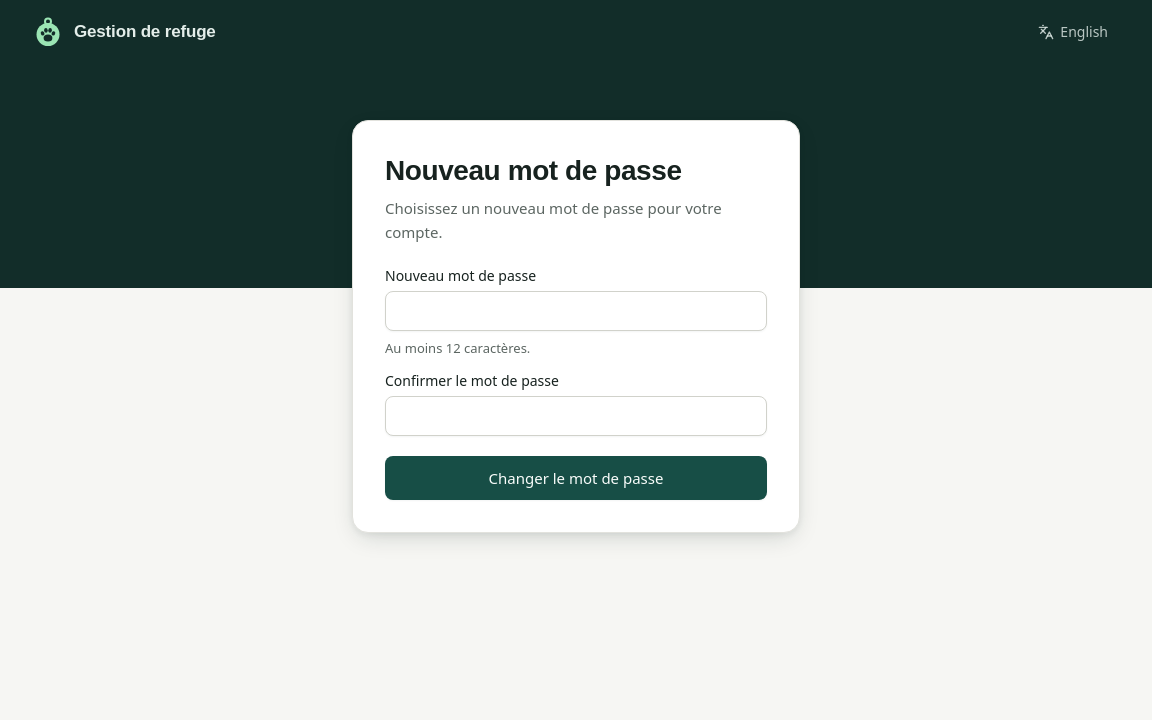
Test: forms › checks a new password before sending it, then shows the server refusal on the field
The width and height of the screenshot is (1152, 720).
In the password field labelled "Nouveau mot de passe": x=576, y=311 [385,291,767,331], type "short"
Click the button "Changer le mot de passe": x=576, y=478 [385,456,767,500]
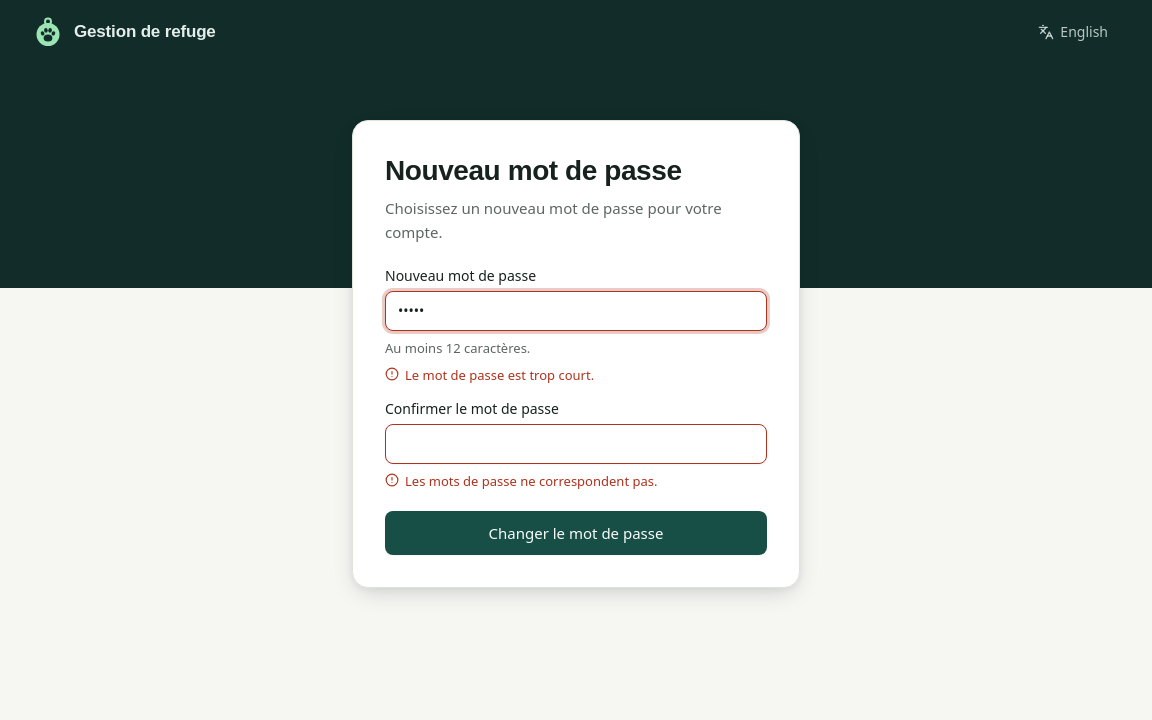
Expected: the text "Le mot de passe est trop court." is shown, [385,366,594,384]
In the password field labelled "Nouveau mot de passe": x=576, y=311 [385,291,767,331], type "long enough pass"
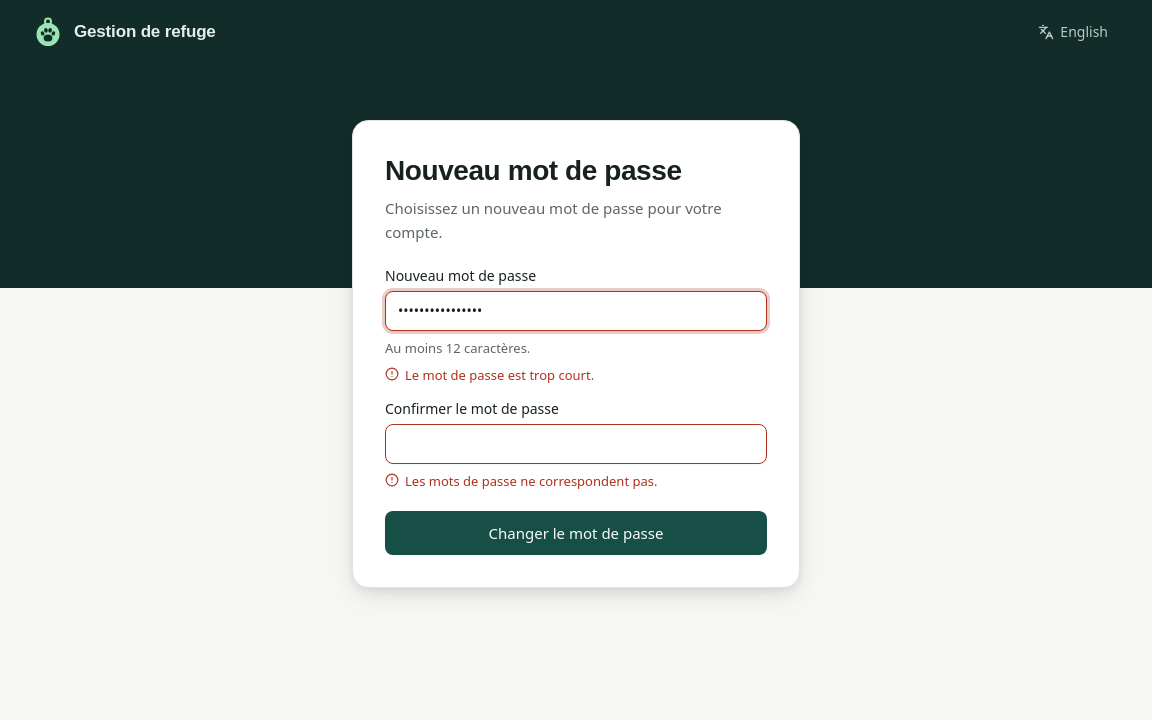
In the password field labelled "Confirmer le mot de passe": x=576, y=444 [385,424,767,464], type "something else"
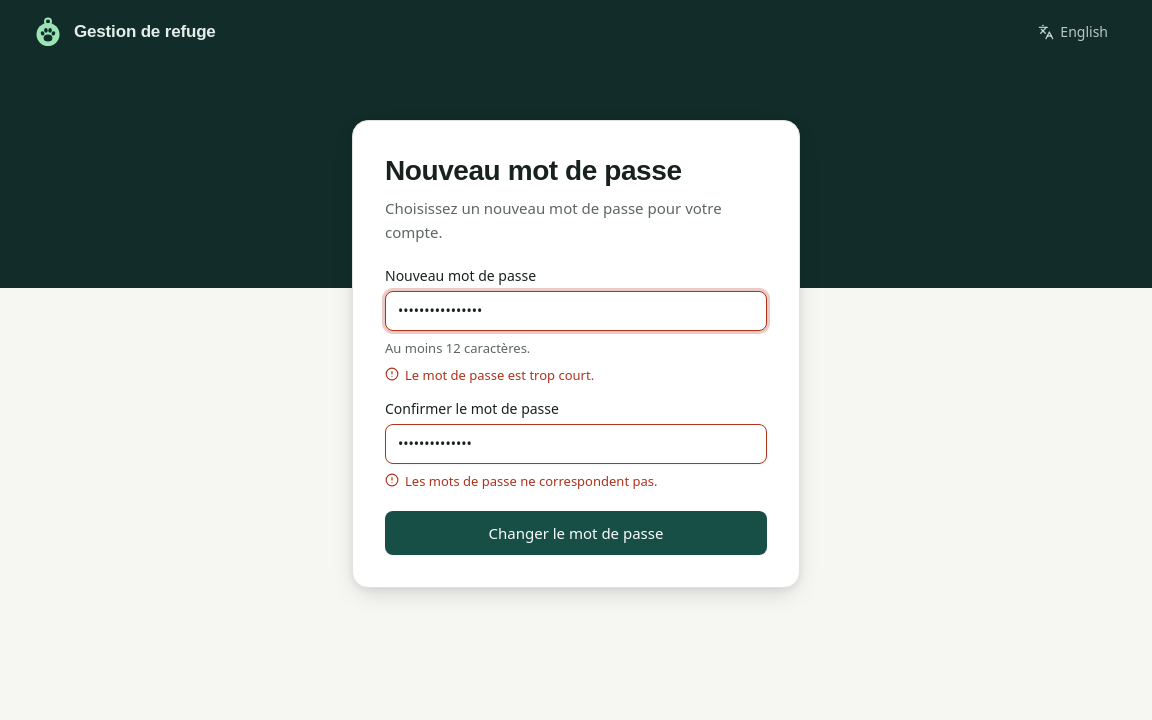
Click the button "Changer le mot de passe": x=576, y=533 [385,511,767,555]
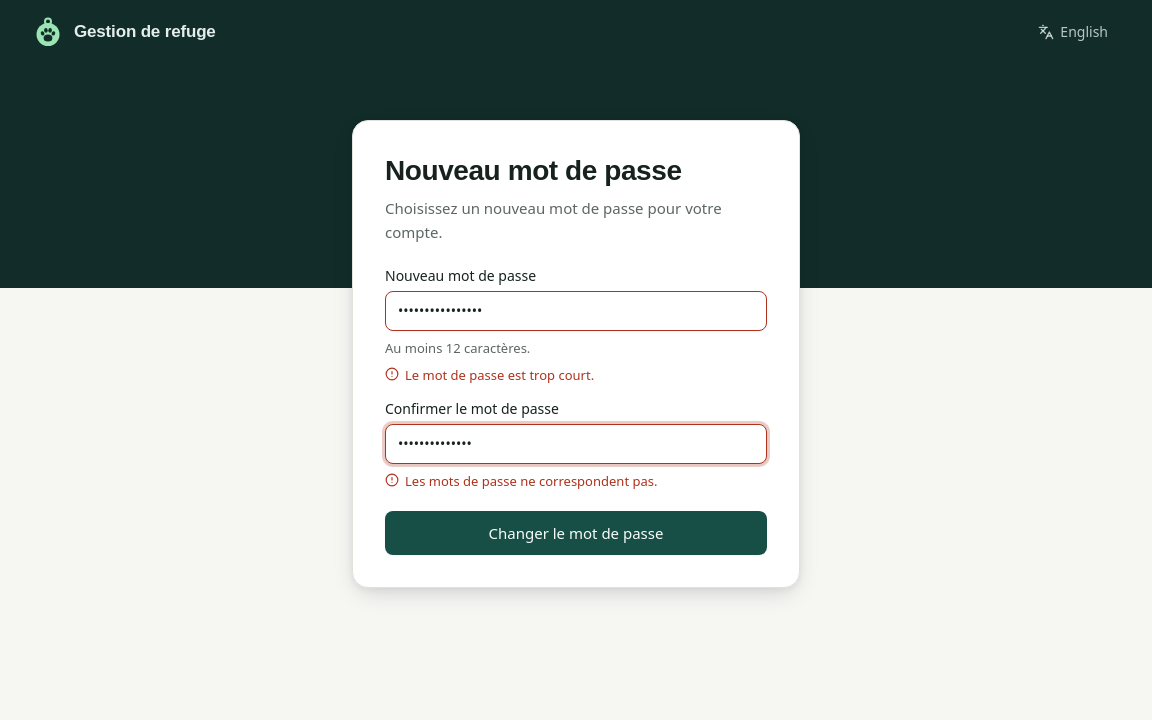
Expected: the text "Les mots de passe ne correspondent pas." is shown, [385,472,658,490]
In the password field labelled "Confirmer le mot de passe": x=576, y=444 [385,424,767,464], type "long enough pass"
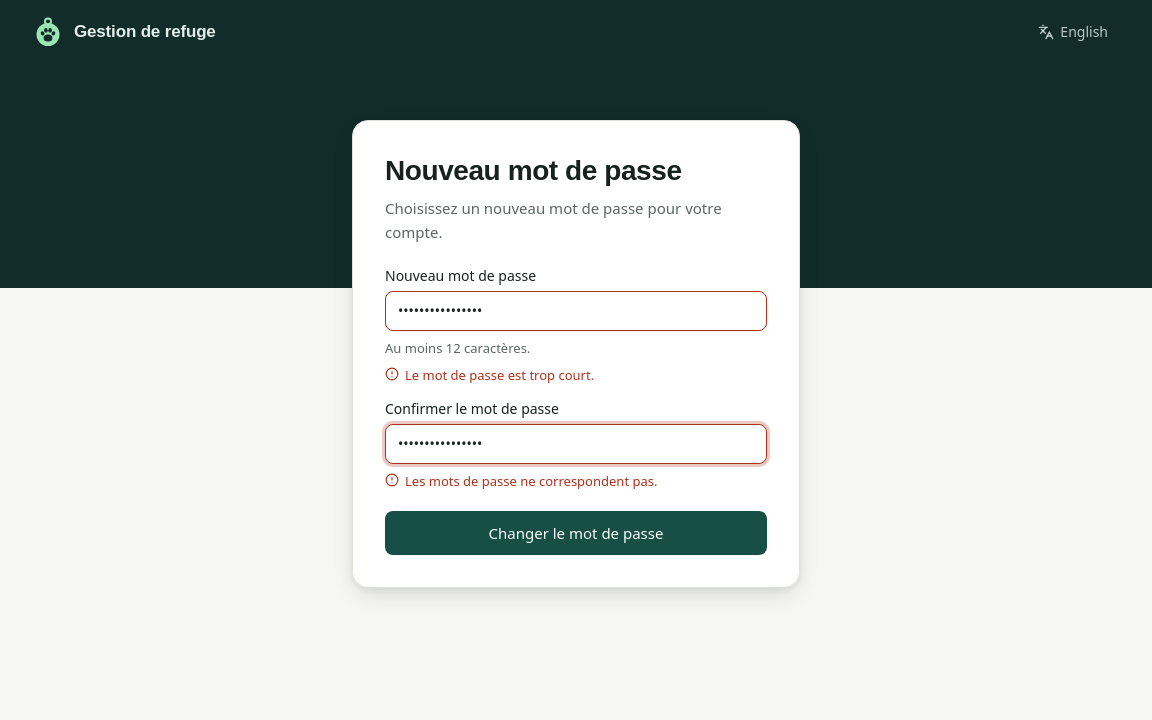
Click the button "Changer le mot de passe": x=576, y=533 [385,511,767,555]
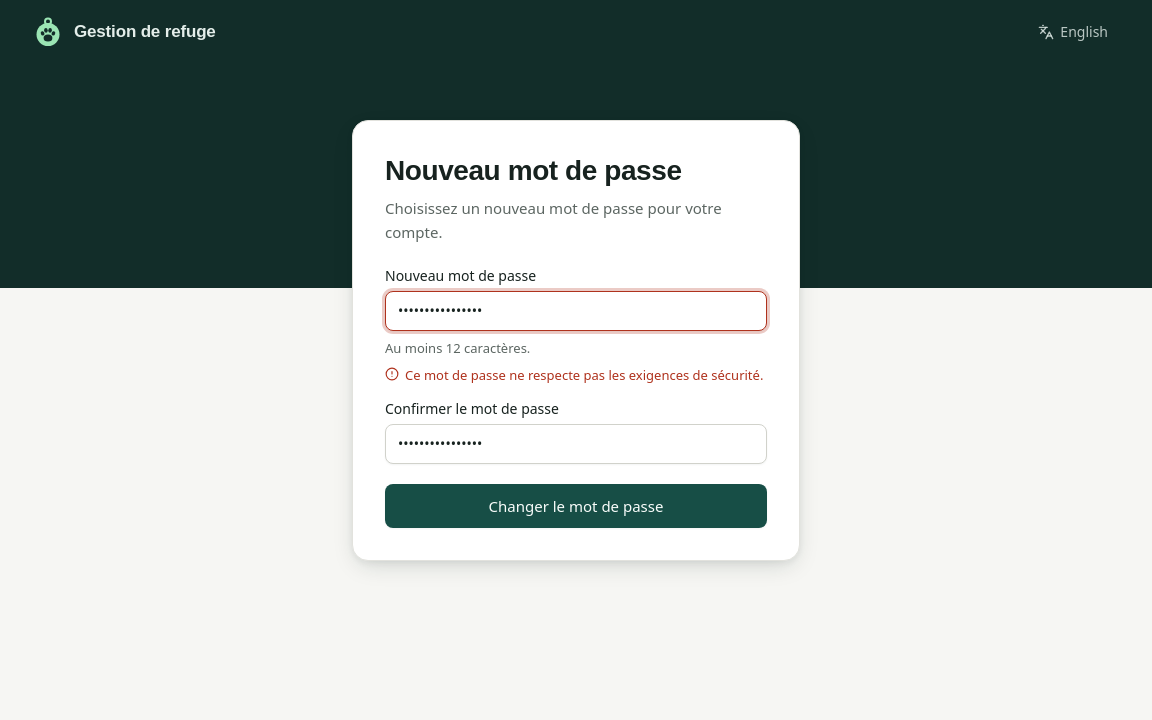
Expected: the text "Ce mot de passe ne respecte pas les exigences de sécurité." is shown, [385,366,767,386]
